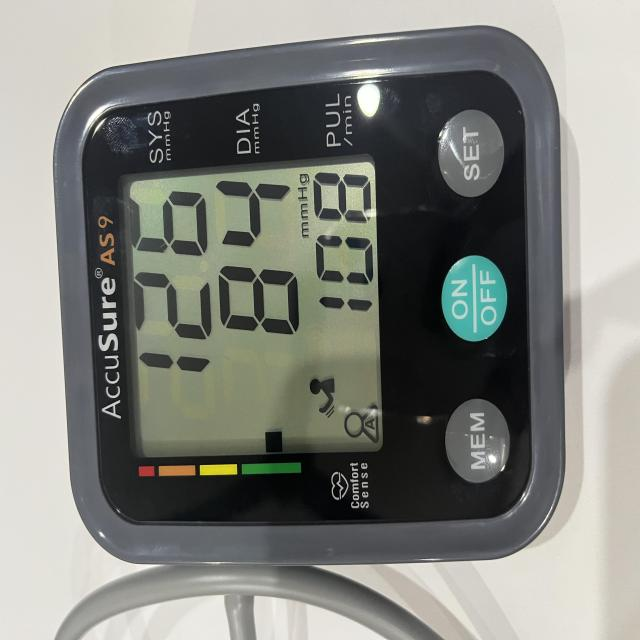bp: (52, 26, 577, 572)
